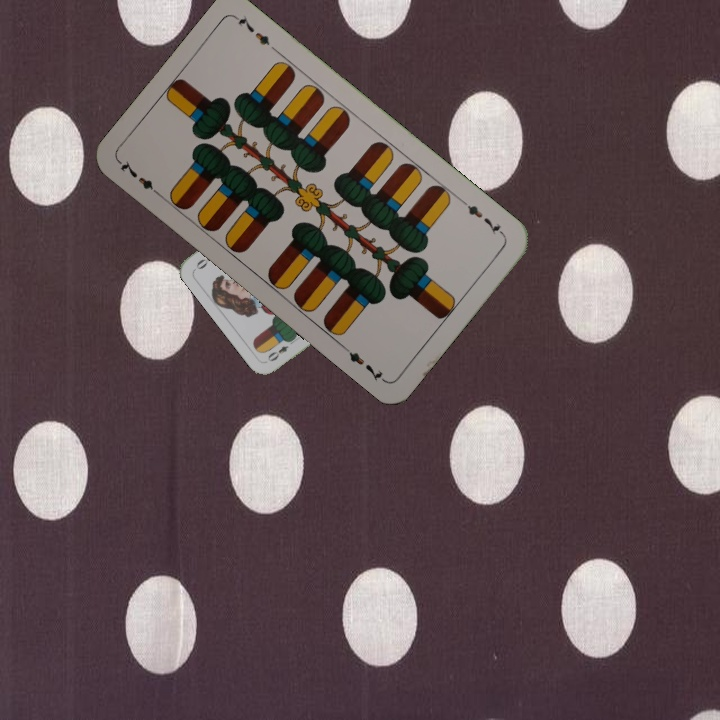E7: (115, 156, 164, 199), (458, 196, 507, 238)
EO: (263, 334, 299, 364)
